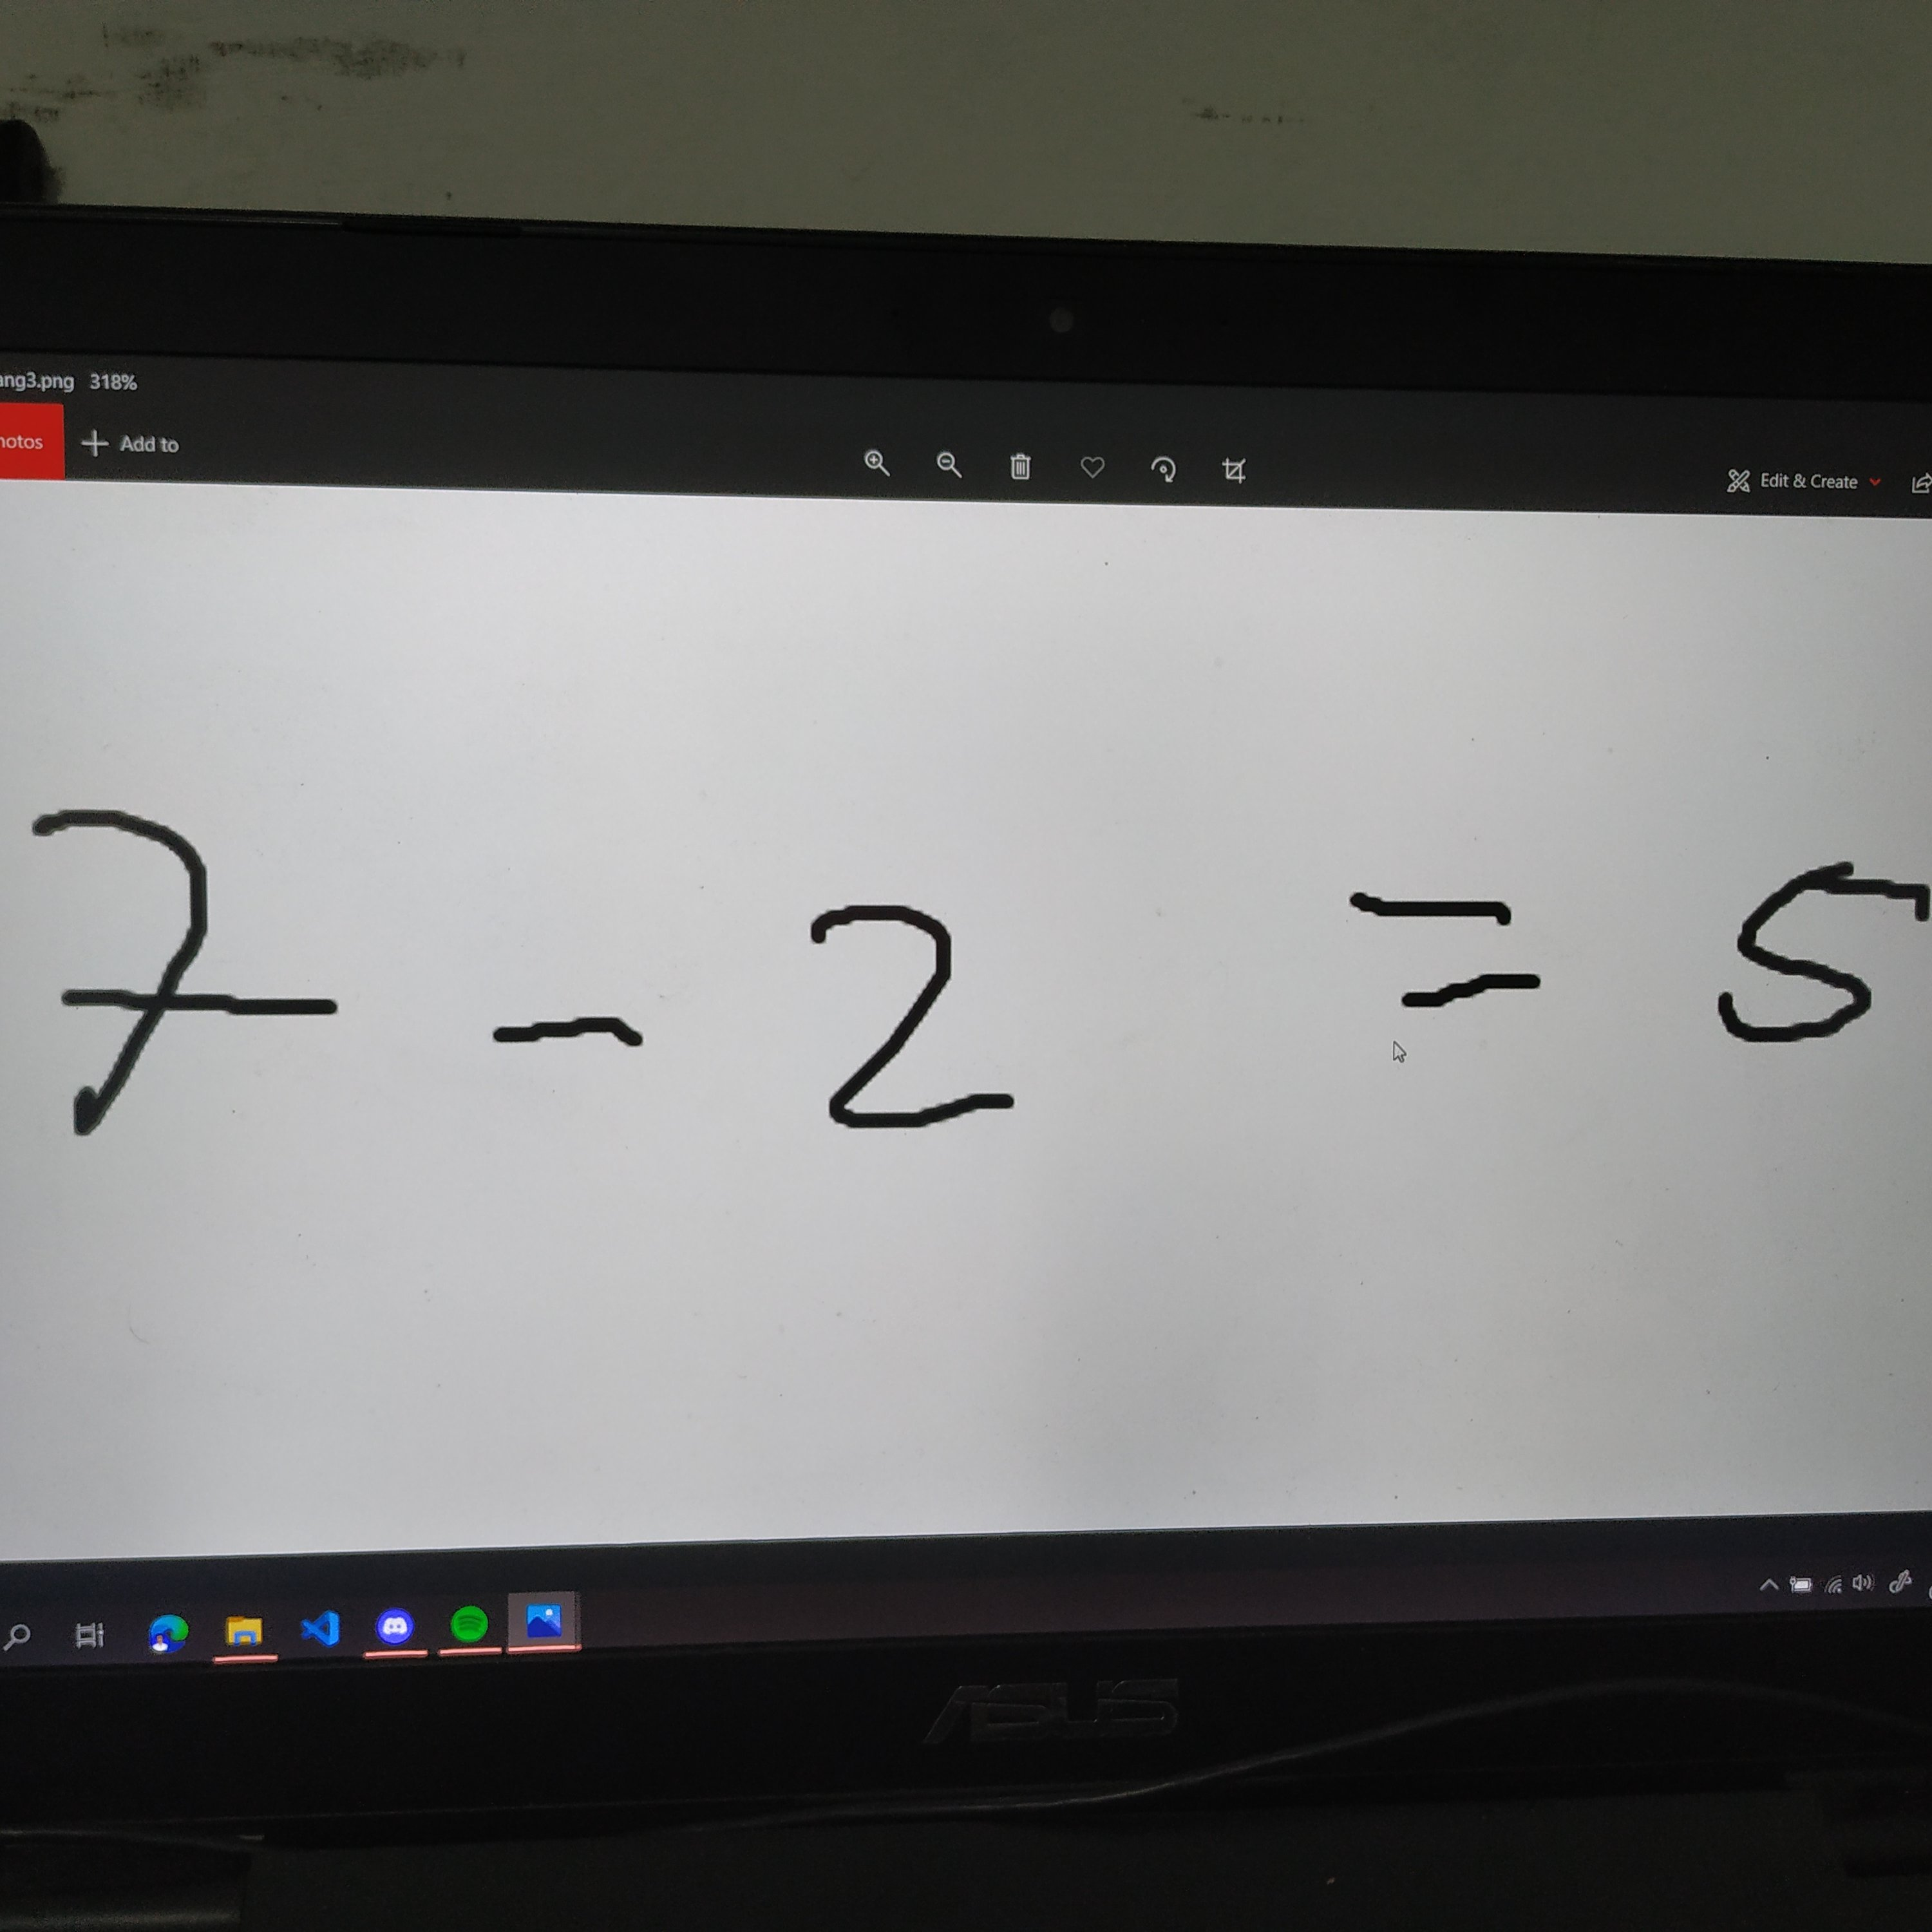equal: (1318, 868, 1596, 1045)
min: (472, 997, 690, 1070)
num2: (767, 883, 1079, 1151)
num5: (1685, 835, 1932, 1074)
num7: (5, 795, 379, 1144)
